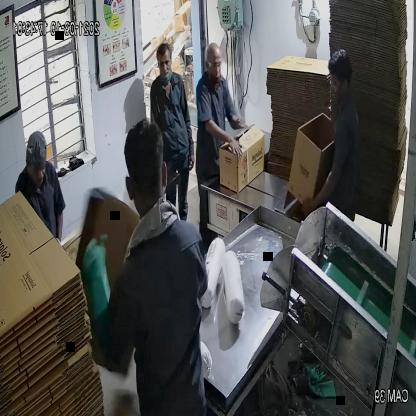glove: (74, 234, 118, 322)
no_glove: (289, 164, 340, 231), (198, 120, 245, 161)
